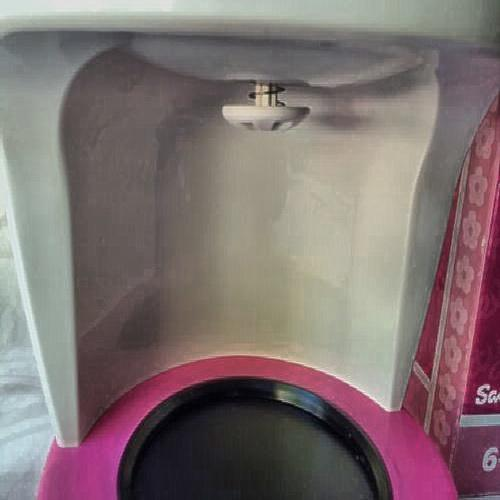coffee_maker: (23, 13, 492, 477)
